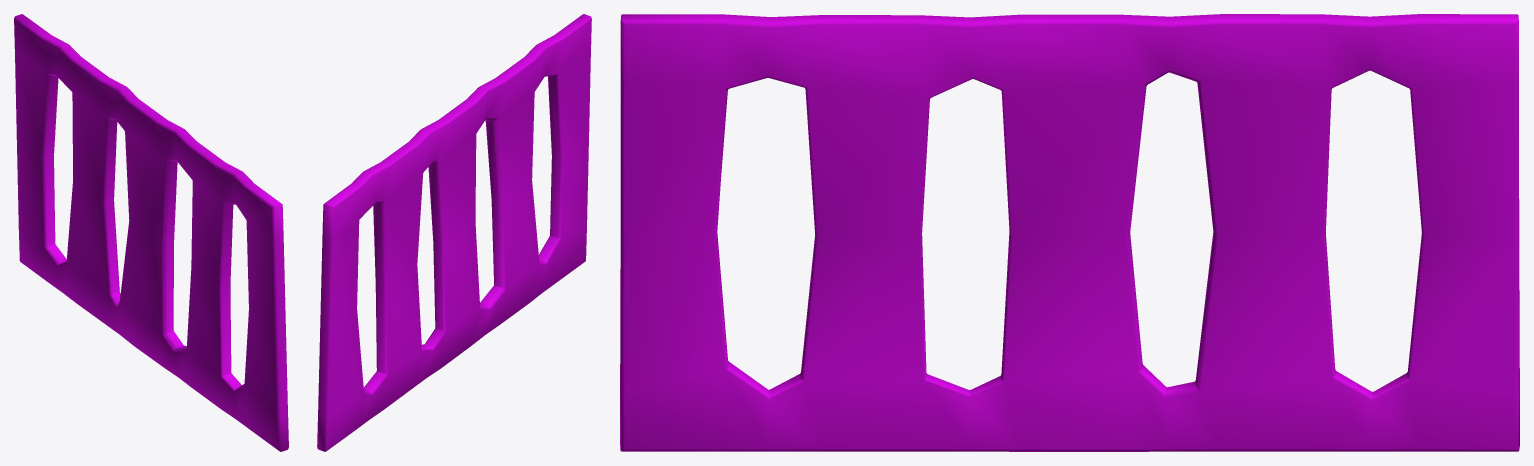
File: PortaVent.fbx
3 renders of one model, left to right at view 1: azimuth 30°, elevation 25°; view 2: azimuth 150°, elevation 25°; view 3: azimuth 270°, elevation 25°, orthographic. The views are drawn at different scales.
Parts seen in each view (by area): view 1: ParedeDentro3.003; view 2: ParedeDentro3.003; view 3: ParedeDentro3.003.
Boxes of the visible parts, <box> form: ParedeDentro3.003: <box>14,14,288,451</box>; ParedeDentro3.003: <box>317,14,591,451</box>; ParedeDentro3.003: <box>620,14,1519,451</box>.
Bounding box in the file's own units: 25.52 × 282 × 535.
